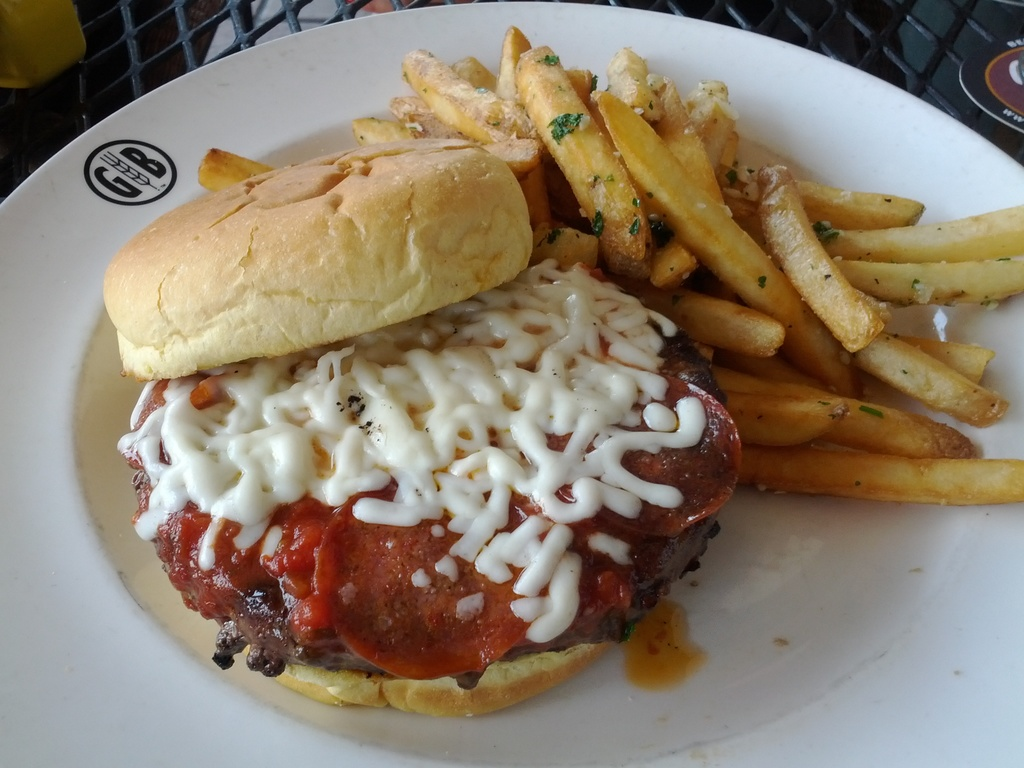French fries: (461, 50, 1003, 503)
